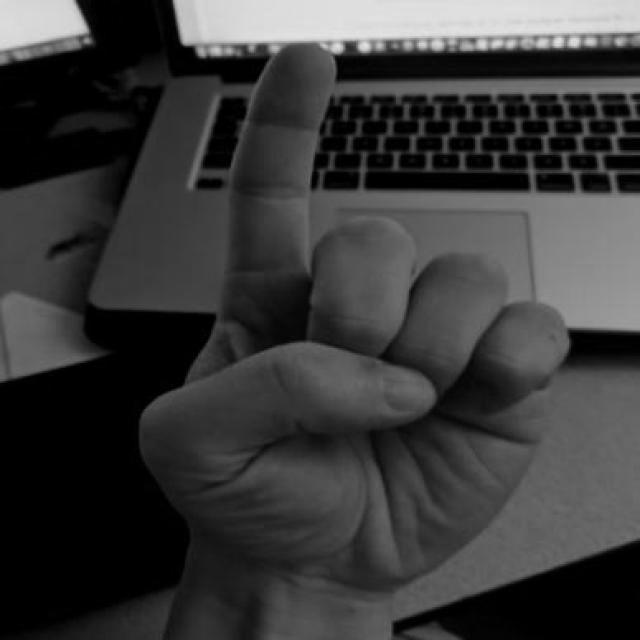D: (125, 24, 589, 608)
